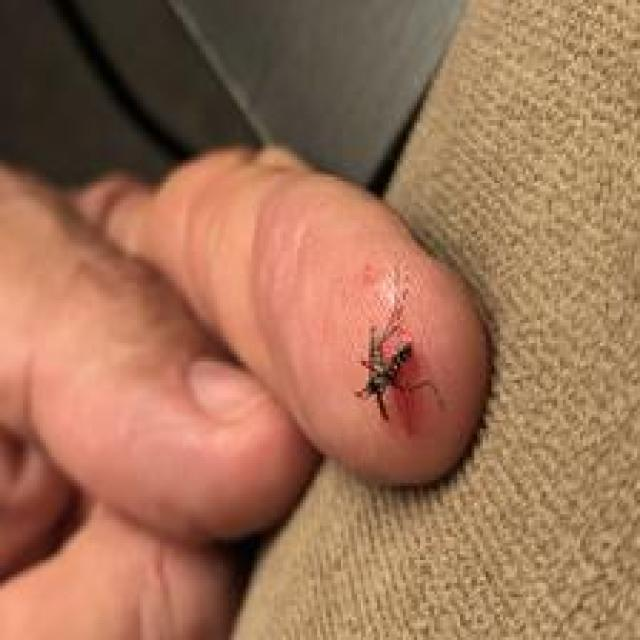Aedes albopictus: (351, 290, 446, 424)
